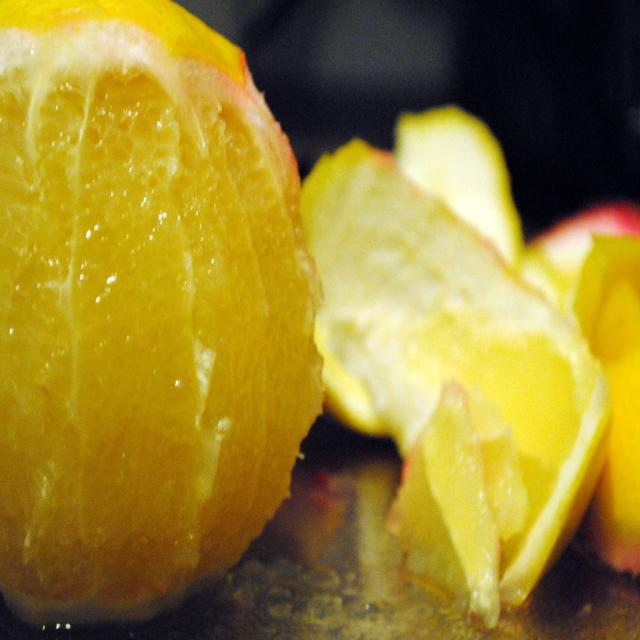Lemon: (2, 4, 324, 630)
